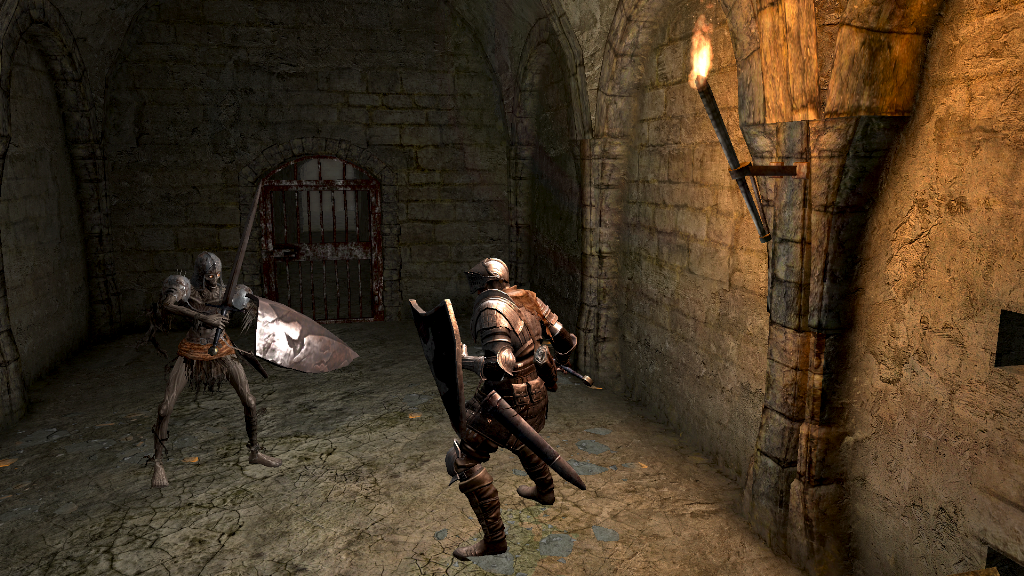player: (405, 257, 594, 560)
undeadSoldier: (145, 250, 284, 486)
